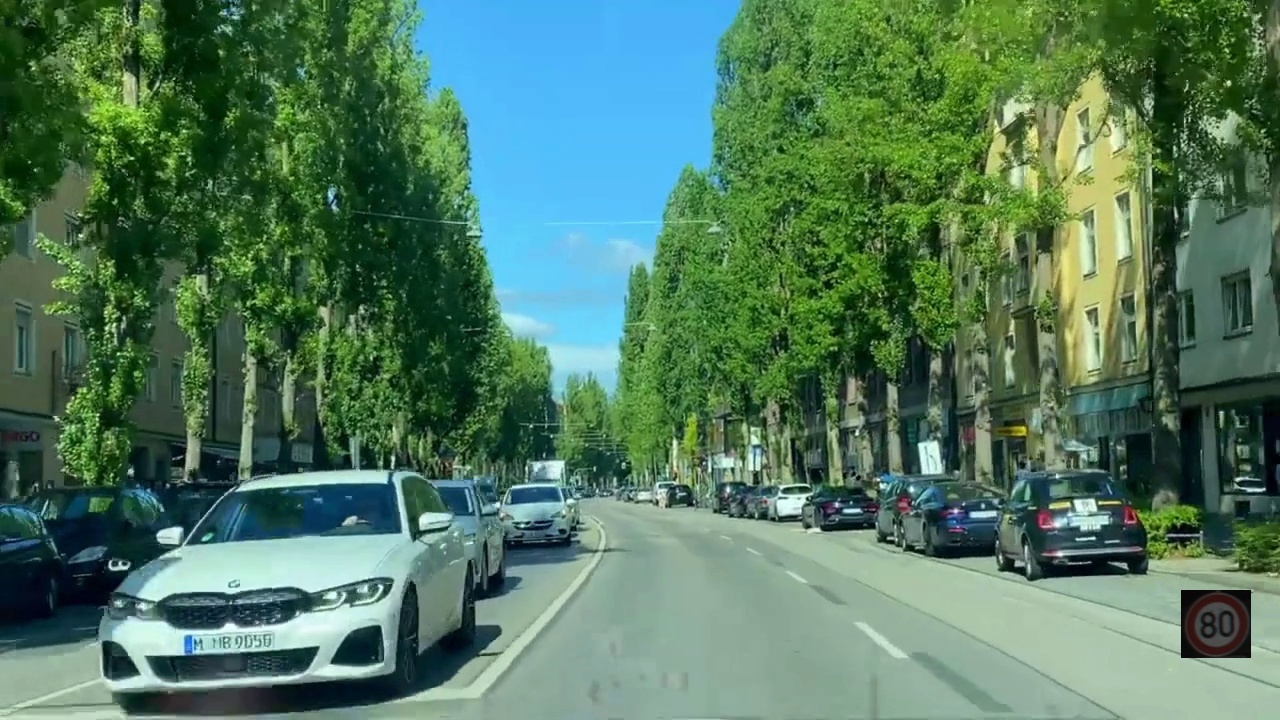Speed 80: (1181, 590, 1251, 658)
